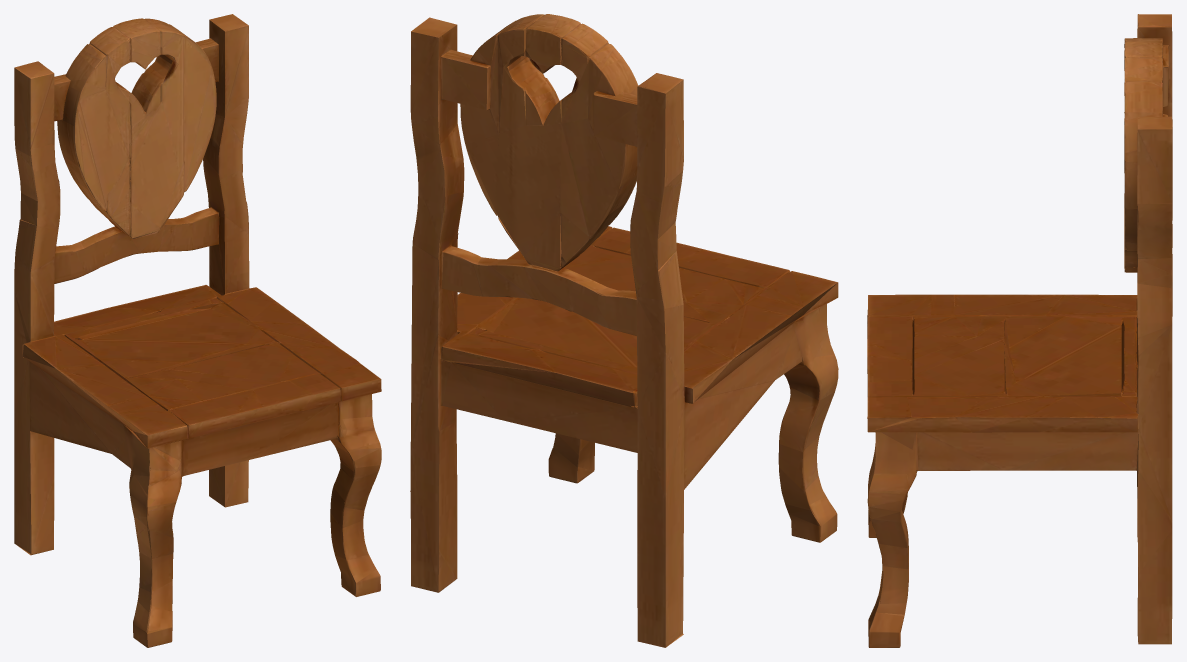
The model's file is dining_chair.glb.
3 renders of one model, left to right at view 1: azimuth 30°, elevation 25°; view 2: azimuth 150°, elevation 25°; view 3: azimuth 270°, elevation 25°, orthographic. The views are drawn at different scales.
Bounding box in the file's own units: 0.935 × 1.9 × 0.9721.
Materials: 1 (1 with a texture image).
